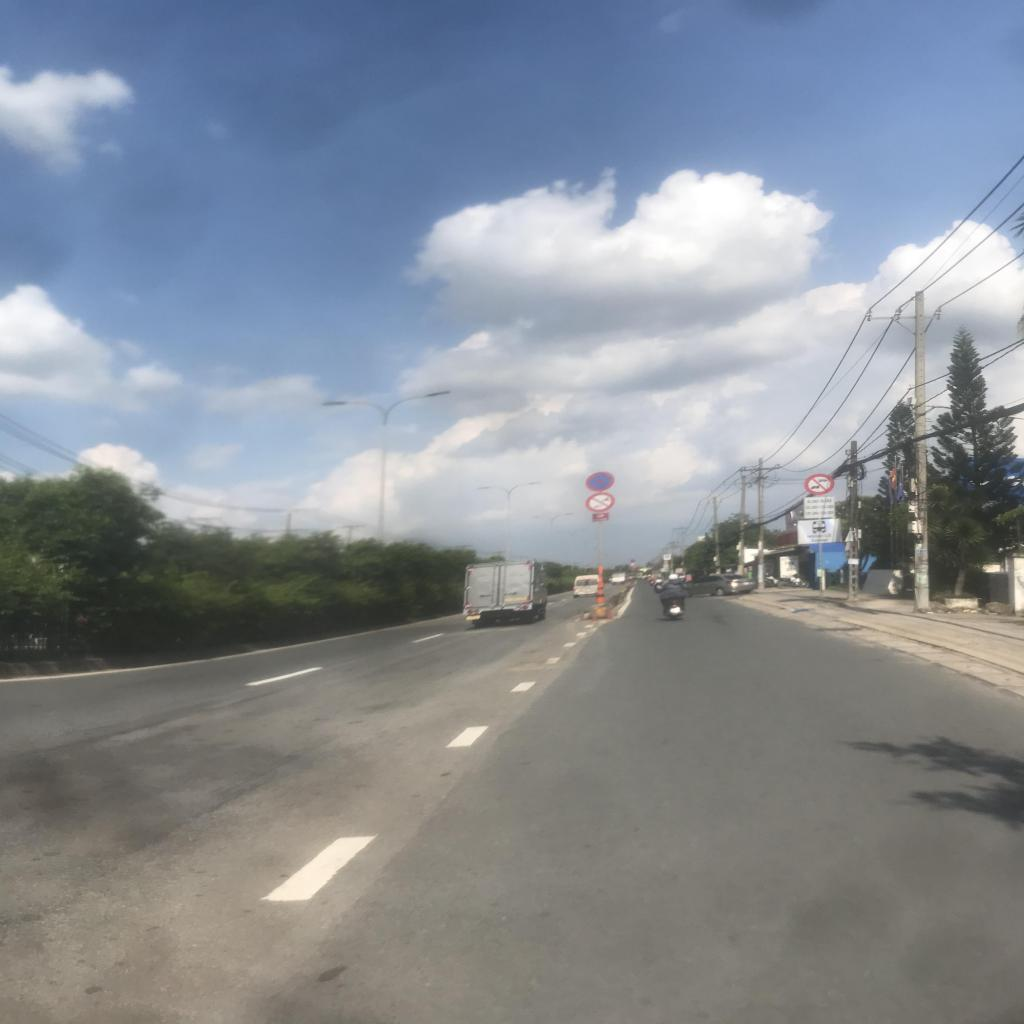cam_dung_xe_va_do_xe: (585, 472, 615, 491)
cam_o_to_tai_va_xe_khach: (804, 473, 835, 495)
cam_xe_2_banh_va_xe_3_banh_co_dong_co: (585, 492, 615, 512)
khac: (797, 519, 842, 544), (803, 497, 835, 519)
